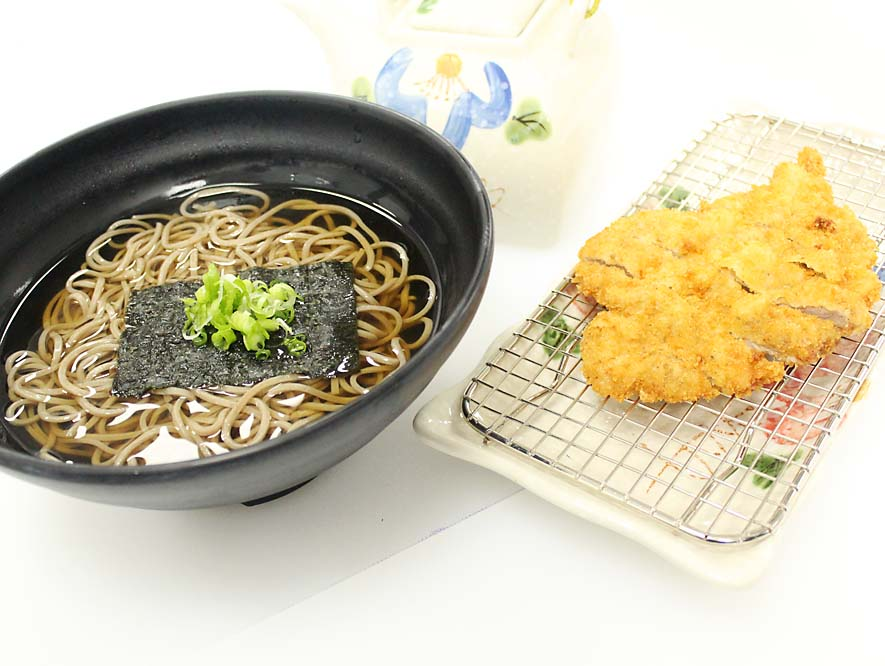Soba: (16, 188, 460, 474)
